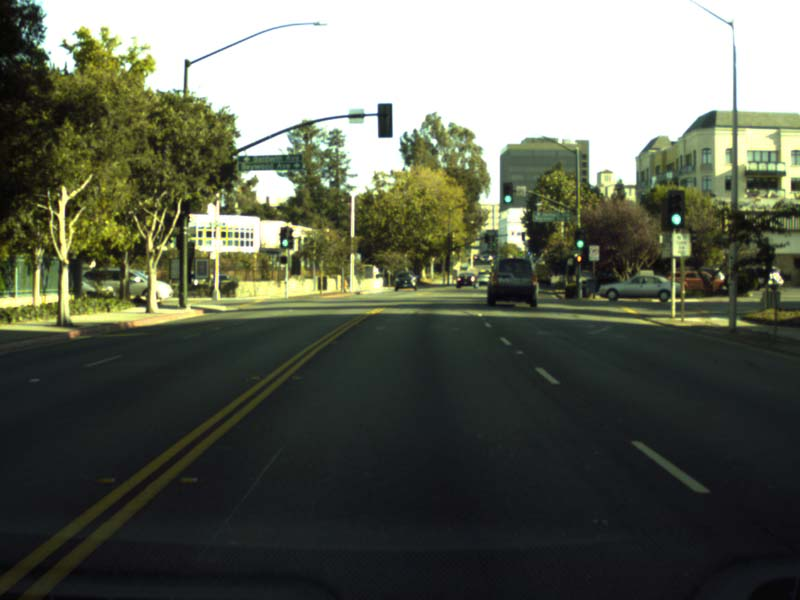Green: (669, 191, 682, 226), (502, 182, 513, 204), (279, 226, 288, 247), (575, 229, 584, 248)
